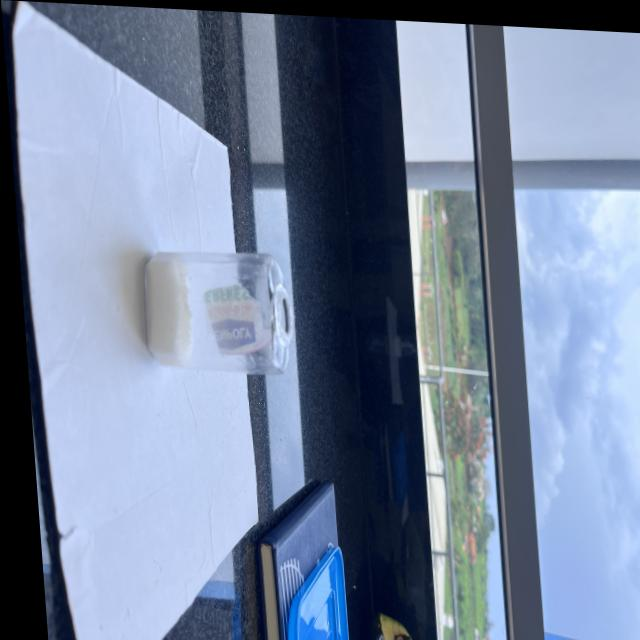salt: (132, 250, 190, 363)
